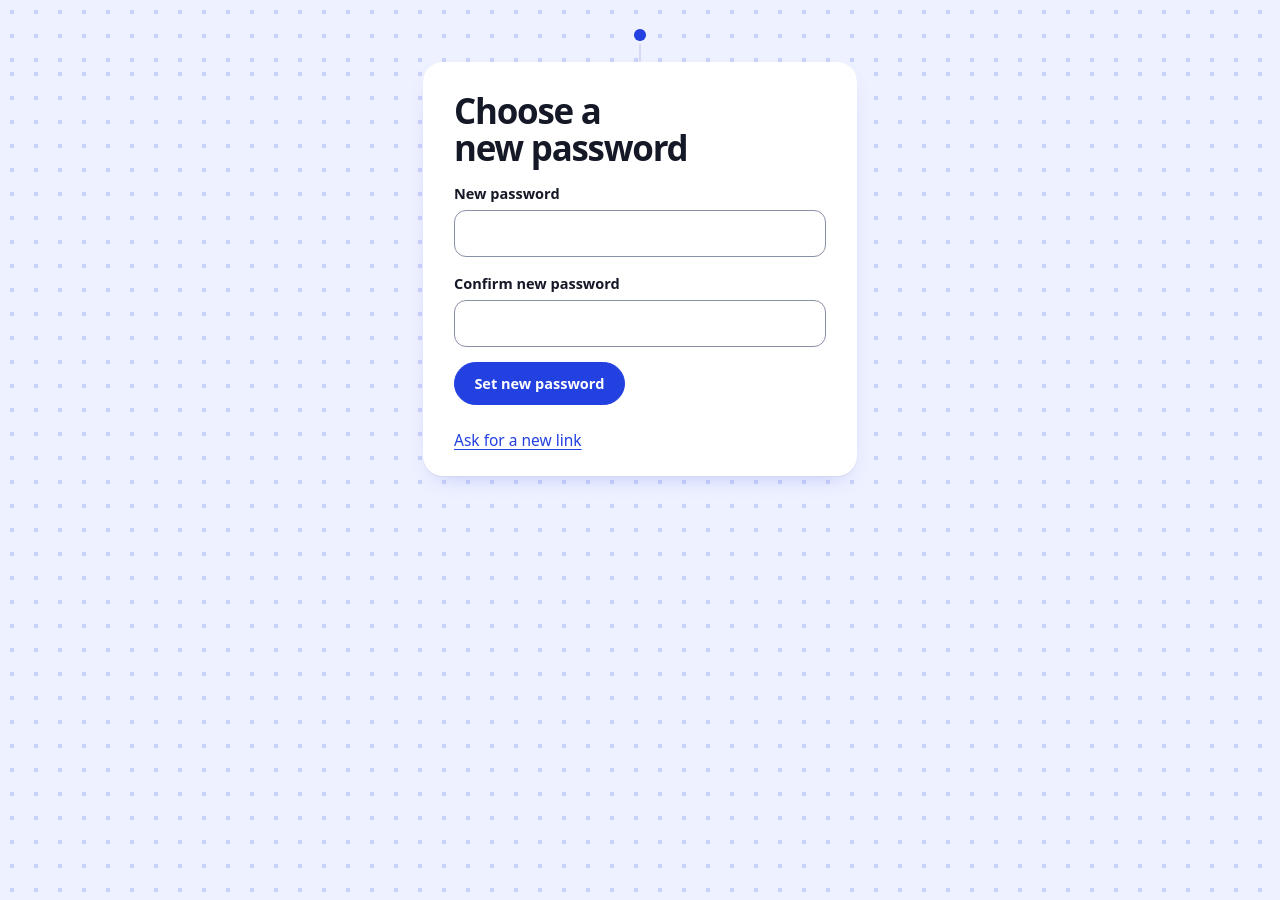
Test: ResetPasswordPage › reports an expired or already-used link in the banner, not against a field
The image size is (1280, 900).
In the password field labelled "New password": {"x": 640, "y": 233} left=454, top=210, right=826, bottom=256, type "A-Brand-New-Passw0rd"
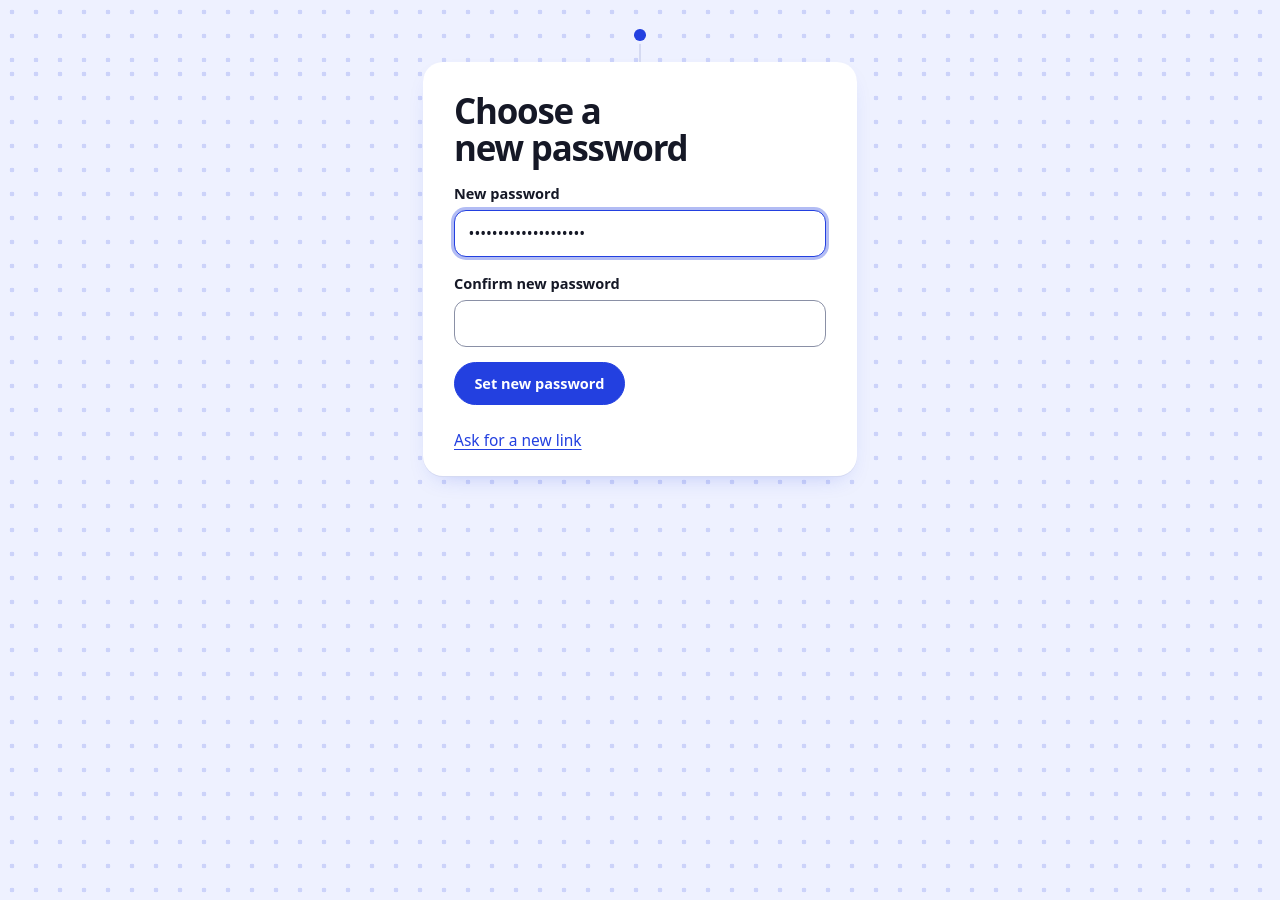
In the password field labelled "Confirm new password": {"x": 640, "y": 324} left=454, top=300, right=826, bottom=347, type "A-Brand-New-Passw0rd"
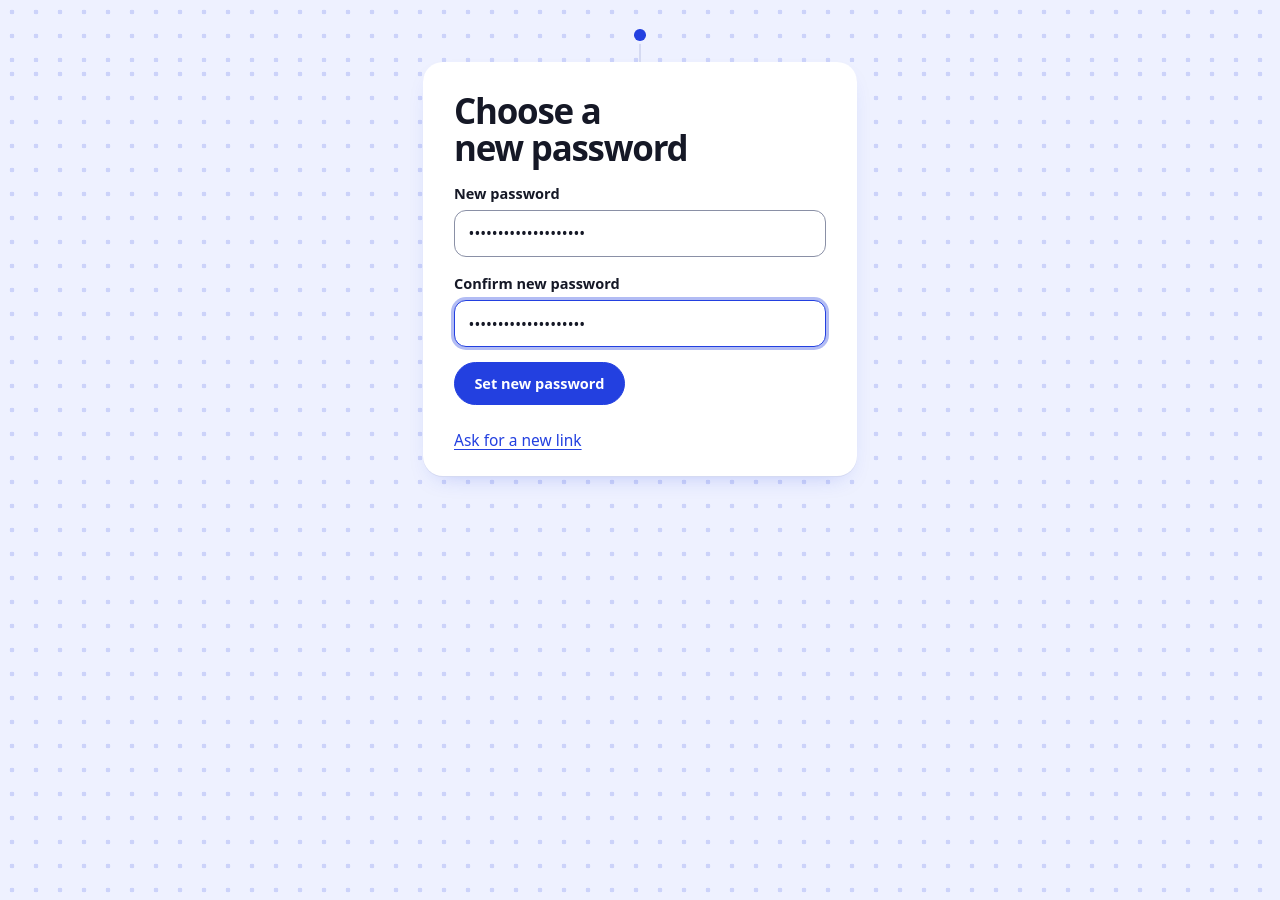
Click the button "Set new password": {"x": 539, "y": 384} left=454, top=362, right=625, bottom=405
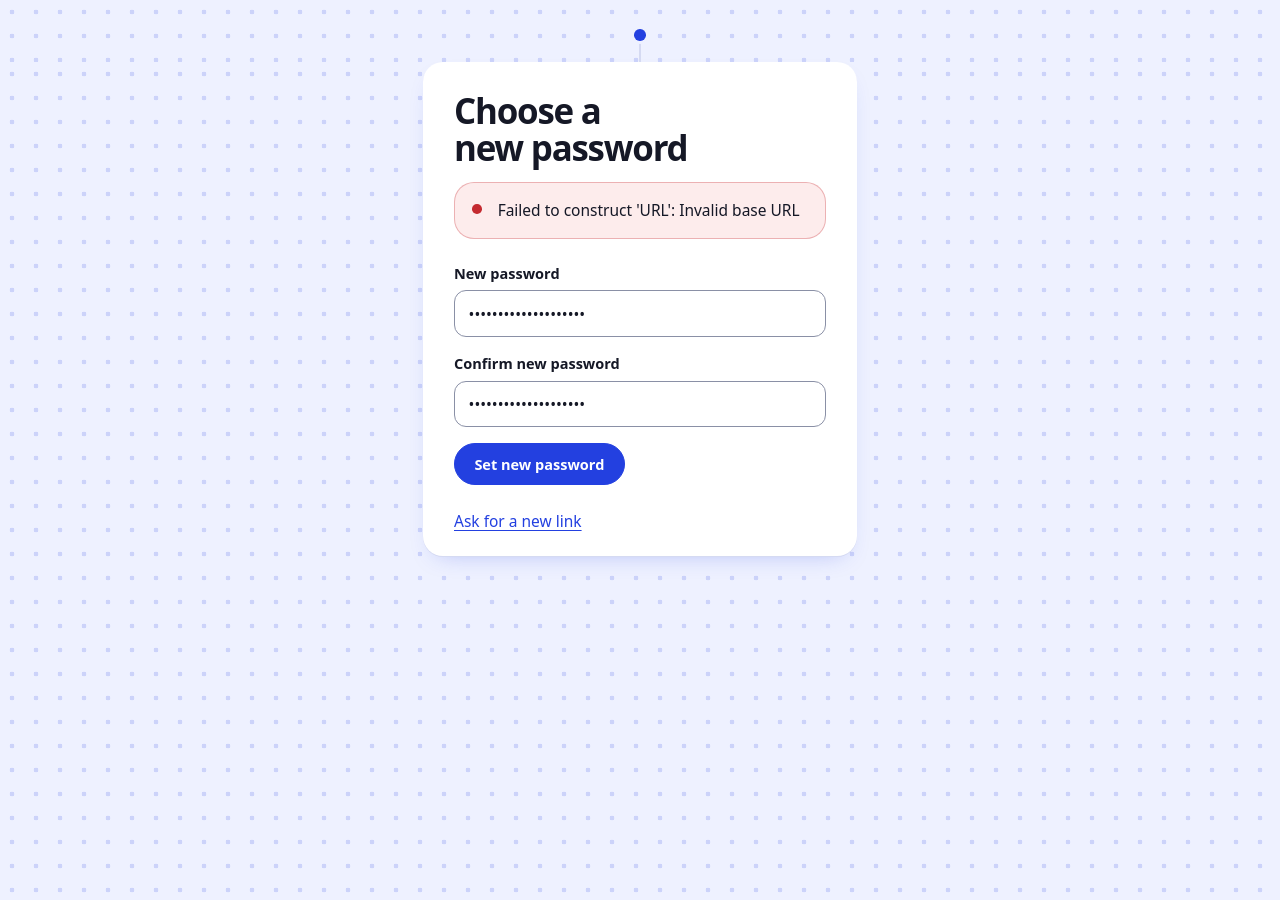
Now the message "Failed to construct 'URL': Invalid base URL" is shown, box left=454, top=182, right=826, bottom=239
